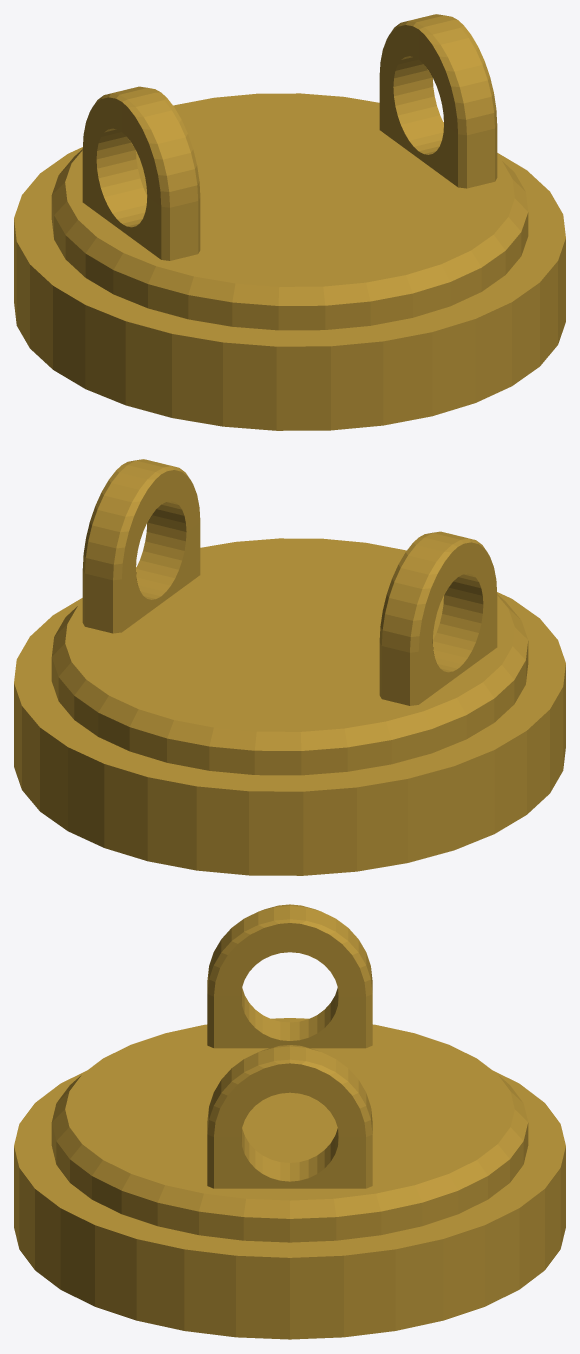
The model's file is mirror_base.glb.
The picture shows the model from 3 angles, top to bottom: view 1: azimuth 30°, elevation 25°; view 2: azimuth 150°, elevation 25°; view 3: azimuth 270°, elevation 25°; orthographic projection. The views are drawn at different scales.
Visible parts, largest first — view 1: Mirror Base; view 2: Mirror Base; view 3: Mirror Base.
Part boxes in pixels (x1,y1,x2,y2): Mirror Base: (14,14,565,430); Mirror Base: (14,459,565,875); Mirror Base: (14,904,565,1339).
Bounding box in the file's own units: 1.5 × 0.7635 × 1.56.
